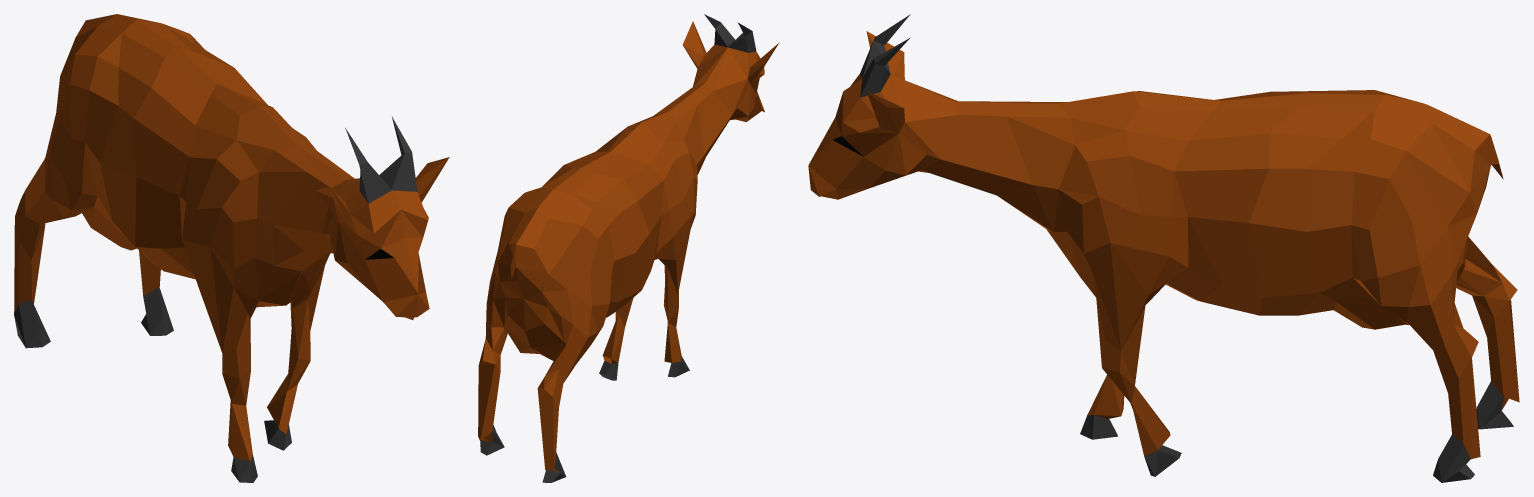
The model's file is Goat_1.FBX.
The picture shows the model from 3 angles, left to right: view 1: azimuth 30°, elevation 25°; view 2: azimuth 150°, elevation 25°; view 3: azimuth 270°, elevation 25°; orthographic projection. The views are drawn at different scales.
Parts seen in each view (by area): view 1: Goat_1; view 2: Goat_1; view 3: Goat_1.
Part boxes in pixels (x1,y1,x2,y2): Goat_1: (14,14,449,482); Goat_1: (478,14,779,482); Goat_1: (808,14,1519,482).
Size of the model in its own units: 0.3106 by 0.836 by 1.24.
1 material, 1 textured.
